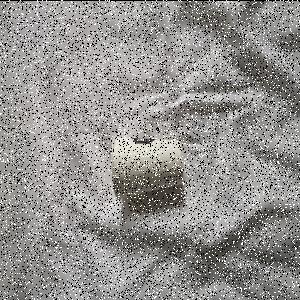Cup: (111, 134, 185, 203)
